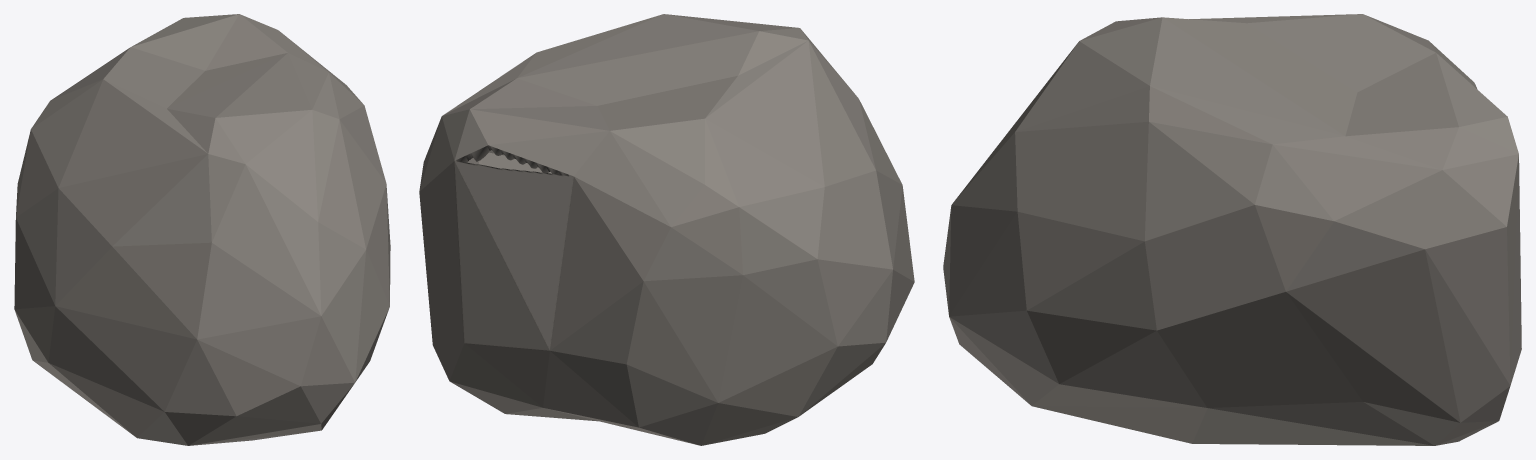
File: stone005.fbx
3 views of the same model, side by side, from view 1: azimuth 30°, elevation 25°; view 2: azimuth 150°, elevation 25°; view 3: azimuth 270°, elevation 25° (orthographic). The views are drawn at different scales.
Visible parts, largest first — view 1: Stone1; view 2: Stone1; view 3: Stone1.
Part boxes in pixels (x1=…): Stone1: x1=14, y1=14, x2=390, y2=445; Stone1: x1=419, y1=14, x2=914, y2=445; Stone1: x1=943, y1=14, x2=1521, y2=445.
Size of the model in its own units: 525 by 460 by 616.
